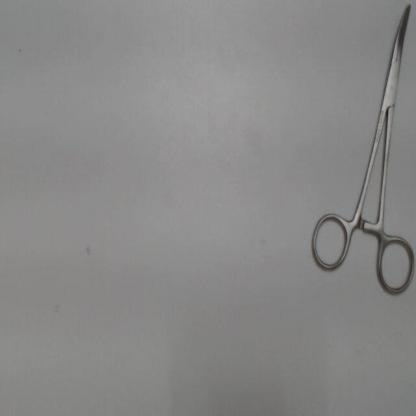Crile Artery Forceps: (309, 0, 415, 300)
